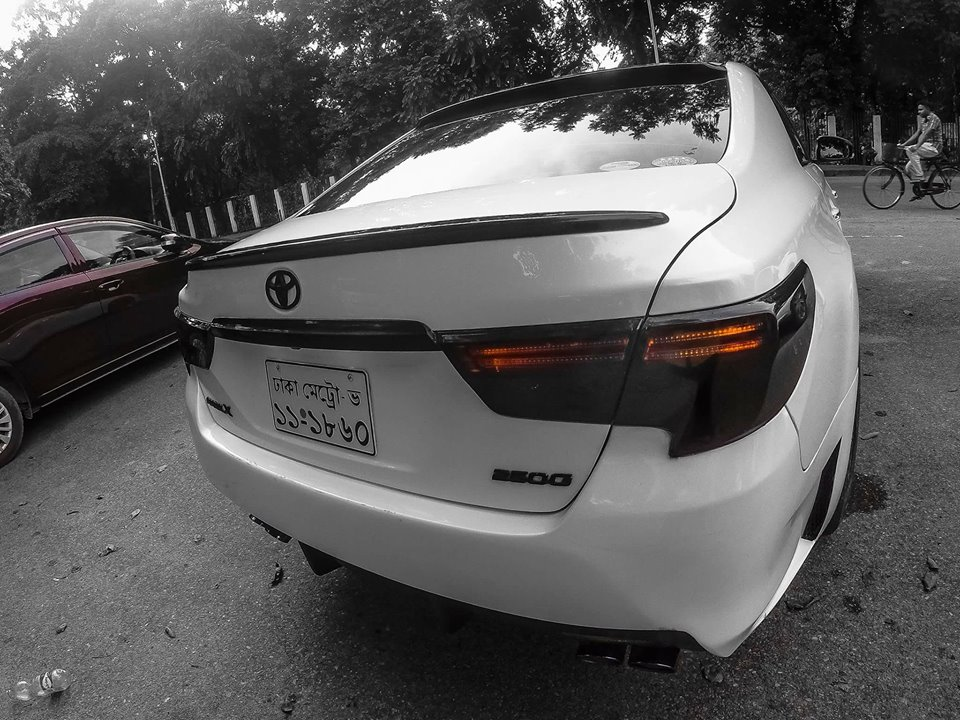registration_plate: (265, 357, 378, 457)
